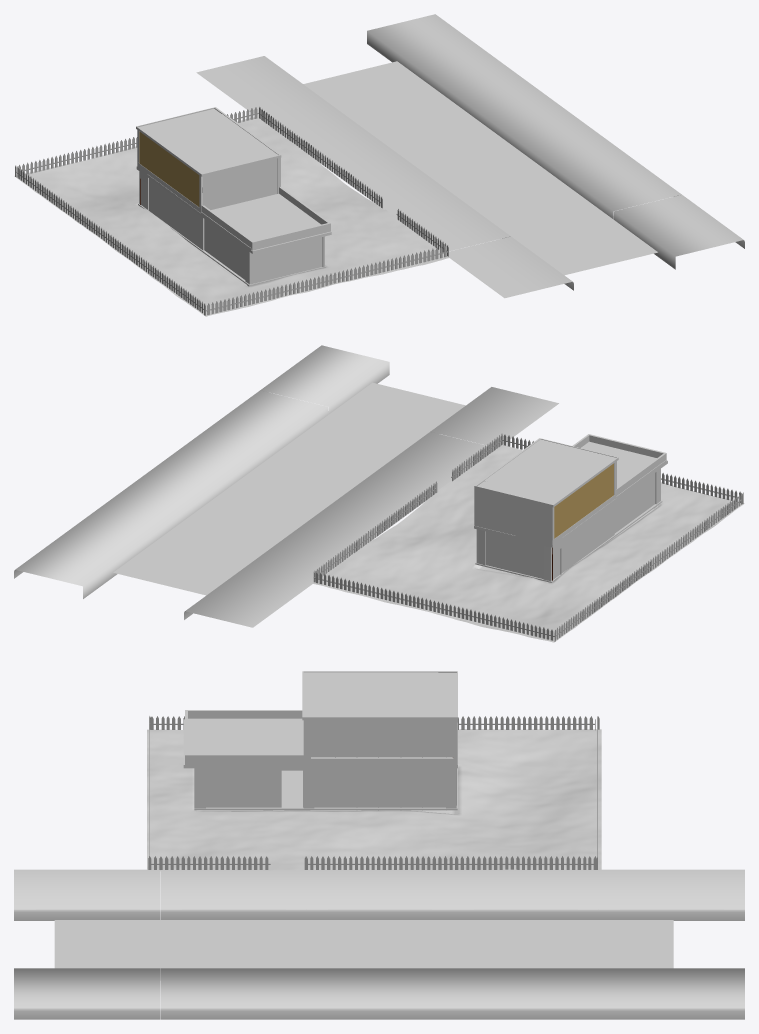
The model's file is asdw.fbx.
3 views of the same model, one above another, from view 1: azimuth 30°, elevation 25°; view 2: azimuth 150°, elevation 25°; view 3: azimuth 270°, elevation 25° (orthographic). The views are drawn at different scales.
Parts seen in each view (by area): view 1: Plane.005, Plane.011, Plane.003, Plane.010, Plane.004, Cube, Plane, Cube.007, Cube.006, Cube.018, Cube.001, Cube.002 (+1 smaller); view 2: Plane.003, Plane.005, Plane.011, Plane.010, Plane.004, Cube, Cube.002, Cube.006, Cube.019, Cube.018, Plane, Cube.016 (+1 smaller); view 3: Plane.003, Plane.011, Plane.010, Plane.005, Cube, Plane.004, Plane, Cube.017, Cube.014, Cube.002, Cube.015, Cube.001 (+3 smaller).
Boxes of the visible parts, x1,y1,x2,y2 form: Plane.005: (303, 61, 657, 275); Plane.011: (367, 14, 744, 269); Plane.003: (14, 117, 448, 316); Plane.010: (196, 56, 573, 298); Plane.004: (15, 107, 448, 315); Cube: (138, 108, 278, 209); Plane: (136, 166, 331, 253); Cube.007: (245, 237, 322, 284); Cube.006: (139, 171, 204, 250); Cube.018: (139, 131, 199, 206); Cube.001: (201, 187, 330, 250); Cube.002: (136, 107, 281, 212); Plane.003: (313, 445, 744, 642); Plane.005: (113, 382, 465, 595); Plane.011: (14, 345, 389, 598); Plane.010: (184, 387, 558, 627); Plane.004: (313, 433, 743, 641); Cube: (477, 439, 616, 504); Cube.002: (474, 438, 618, 544); Cube.006: (543, 502, 614, 581); Cube.019: (486, 531, 543, 578); Cube.018: (554, 463, 613, 538); Plane: (474, 441, 667, 547); Cube.016: (614, 473, 655, 533); Plane.003: (147, 729, 601, 870); Plane.011: (14, 968, 744, 1019); Plane.010: (14, 869, 744, 920); Plane.005: (54, 920, 673, 980); Cube: (303, 672, 456, 716); Plane.004: (148, 716, 599, 869); Plane: (183, 718, 457, 768); Cube.017: (311, 720, 453, 757); Cube.014: (314, 770, 445, 807); Cube.002: (302, 671, 457, 764); Cube.015: (206, 770, 281, 807); Cube.001: (185, 710, 303, 764).
Size of what is drawn, in the model's own units: 11022 by 2008 by 12196.
